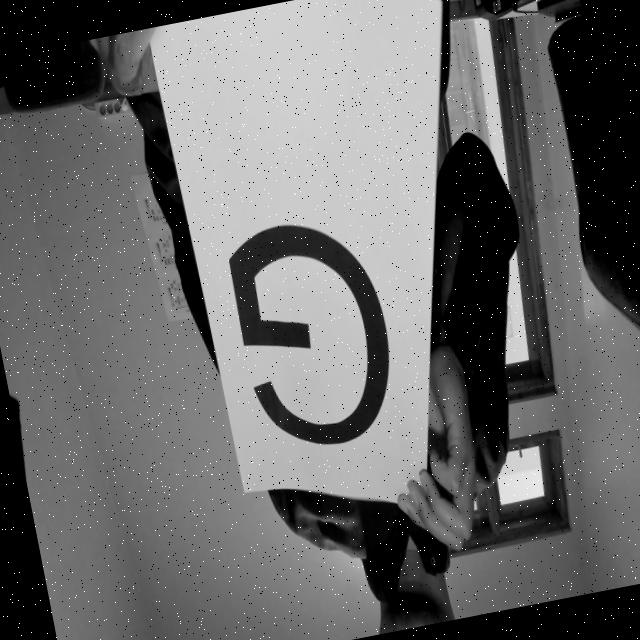g: (198, 178, 414, 474)
